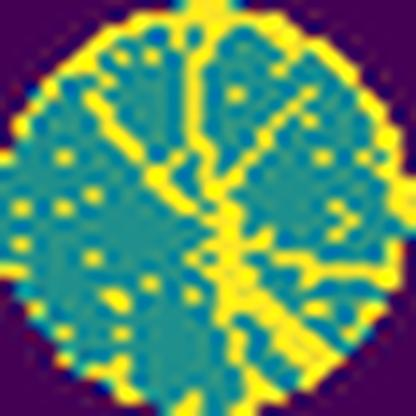Scratch: (82, 24, 412, 408)
